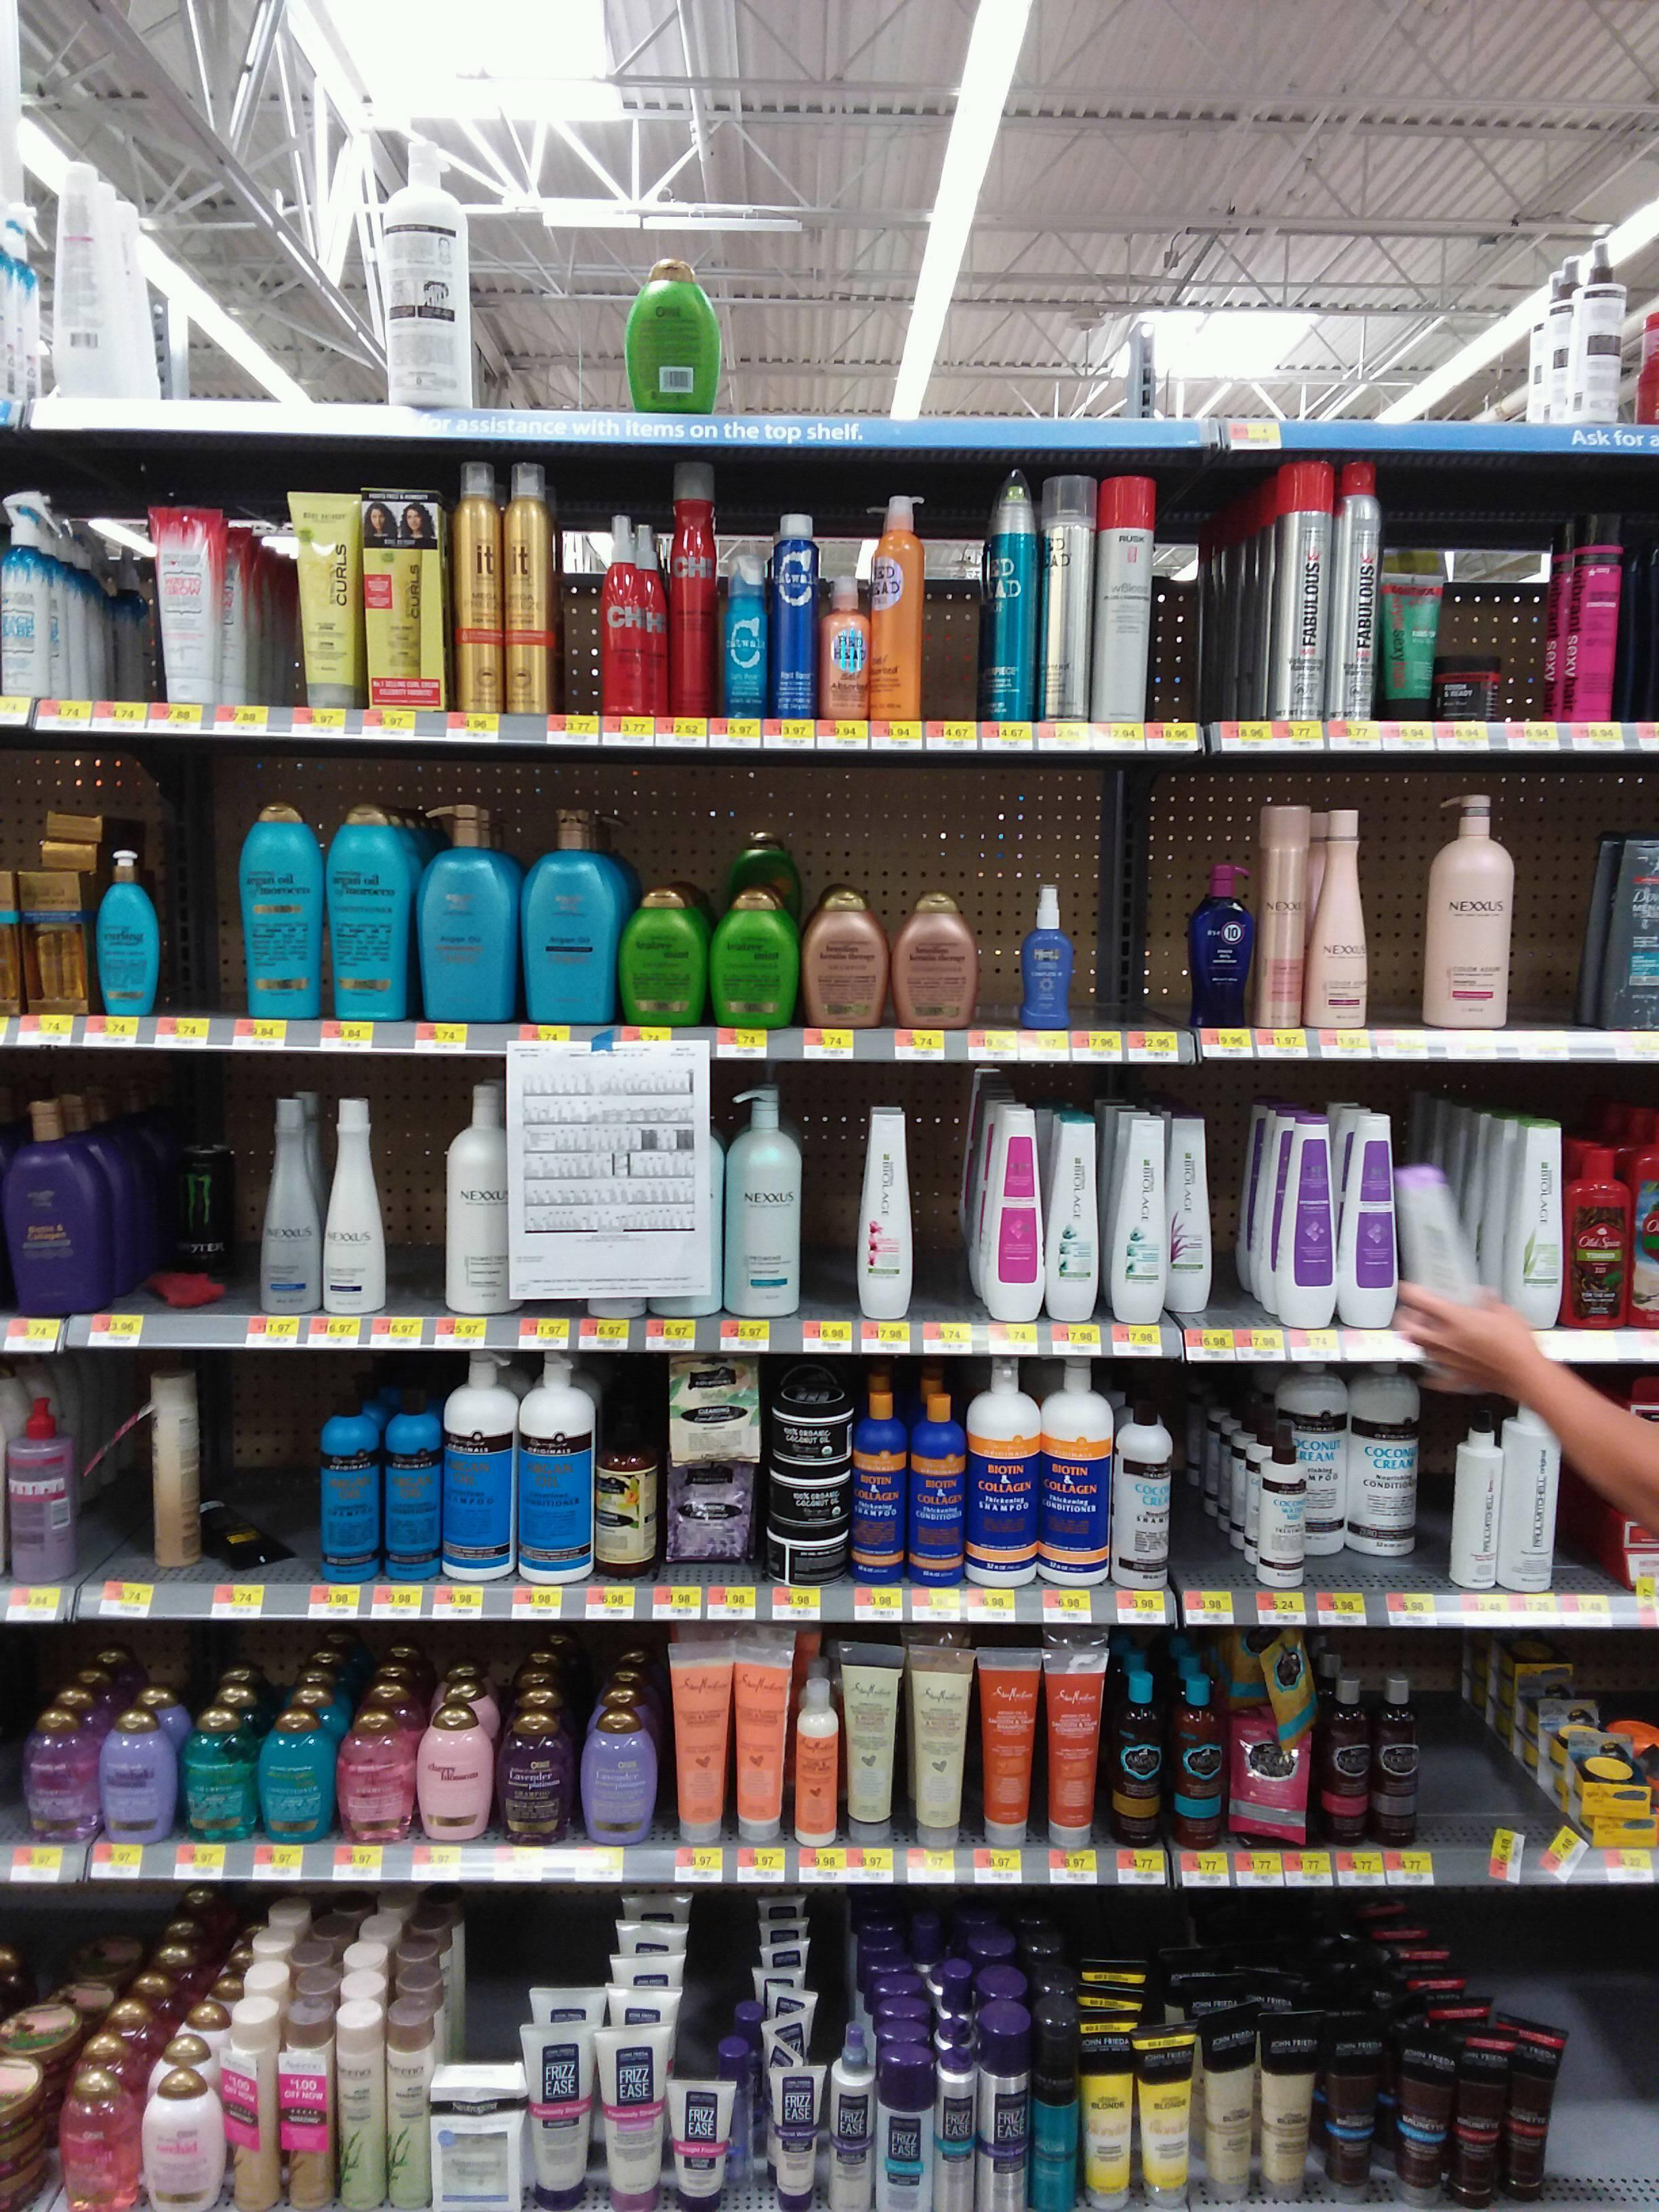misalignment: (138, 1369, 303, 1576), (1263, 1639, 1326, 1738), (38, 806, 113, 874)
